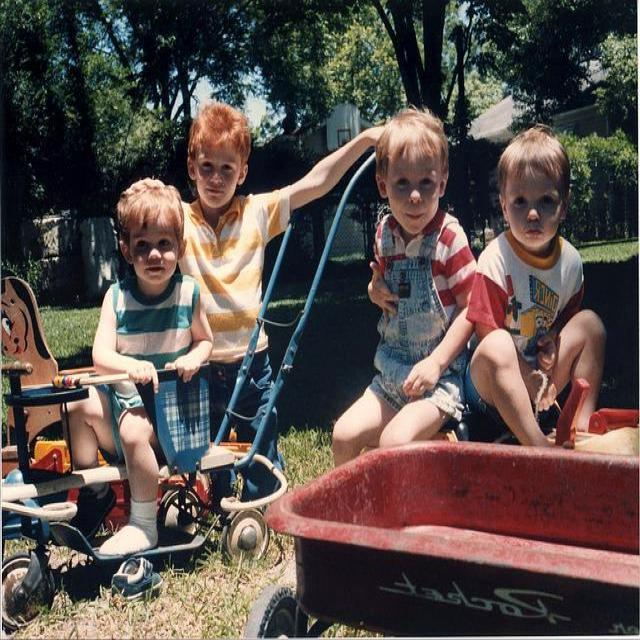child: (177, 101, 387, 532), (59, 178, 215, 560), (331, 104, 482, 470), (459, 125, 606, 447)
